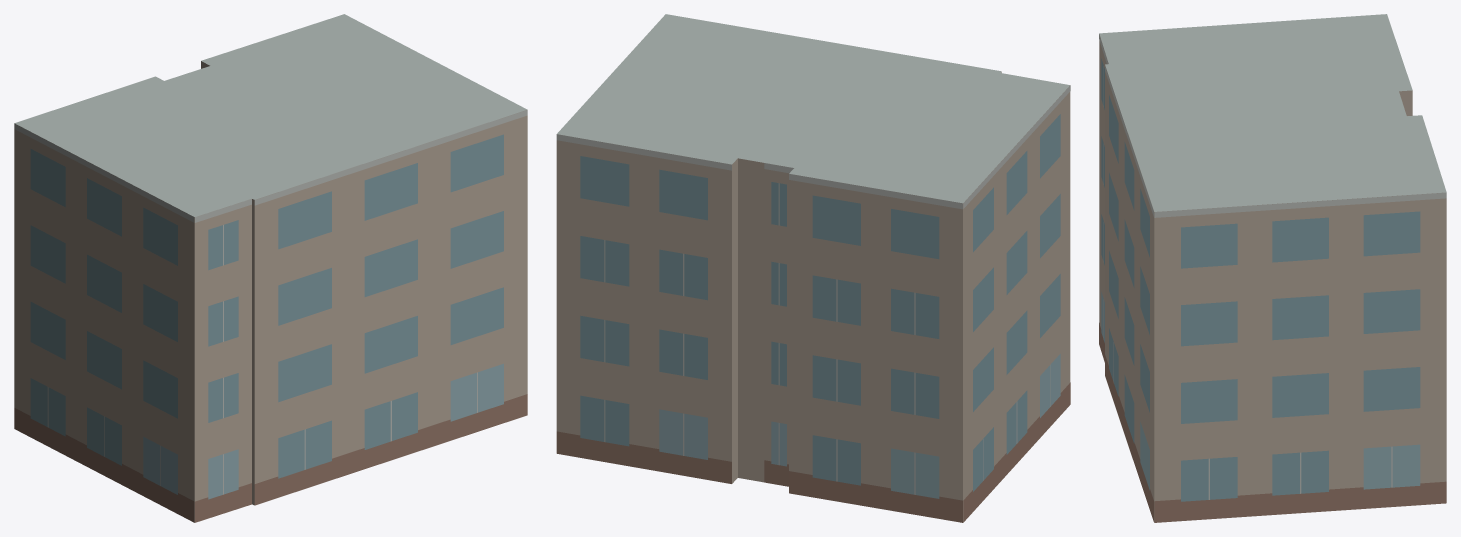
The model's file is survey-upis-32574410.glb.
The picture shows the model from 3 angles, left to right: view 1: azimuth 30°, elevation 25°; view 2: azimuth 150°, elevation 25°; view 3: azimuth 270°, elevation 25°; orthographic projection. The views are drawn at different scales.
Visible parts, largest first — view 1: survey-upis-32574410.tmp; view 2: survey-upis-32574410.tmp; view 3: survey-upis-32574410.tmp.
Part boxes in pixels (<box>): survey-upis-32574410.tmp: <box>14,14,527,522</box>; survey-upis-32574410.tmp: <box>556,14,1070,522</box>; survey-upis-32574410.tmp: <box>1099,14,1446,522</box>.
Size of the model in its own units: 17.49 by 12.8 by 12.98.
